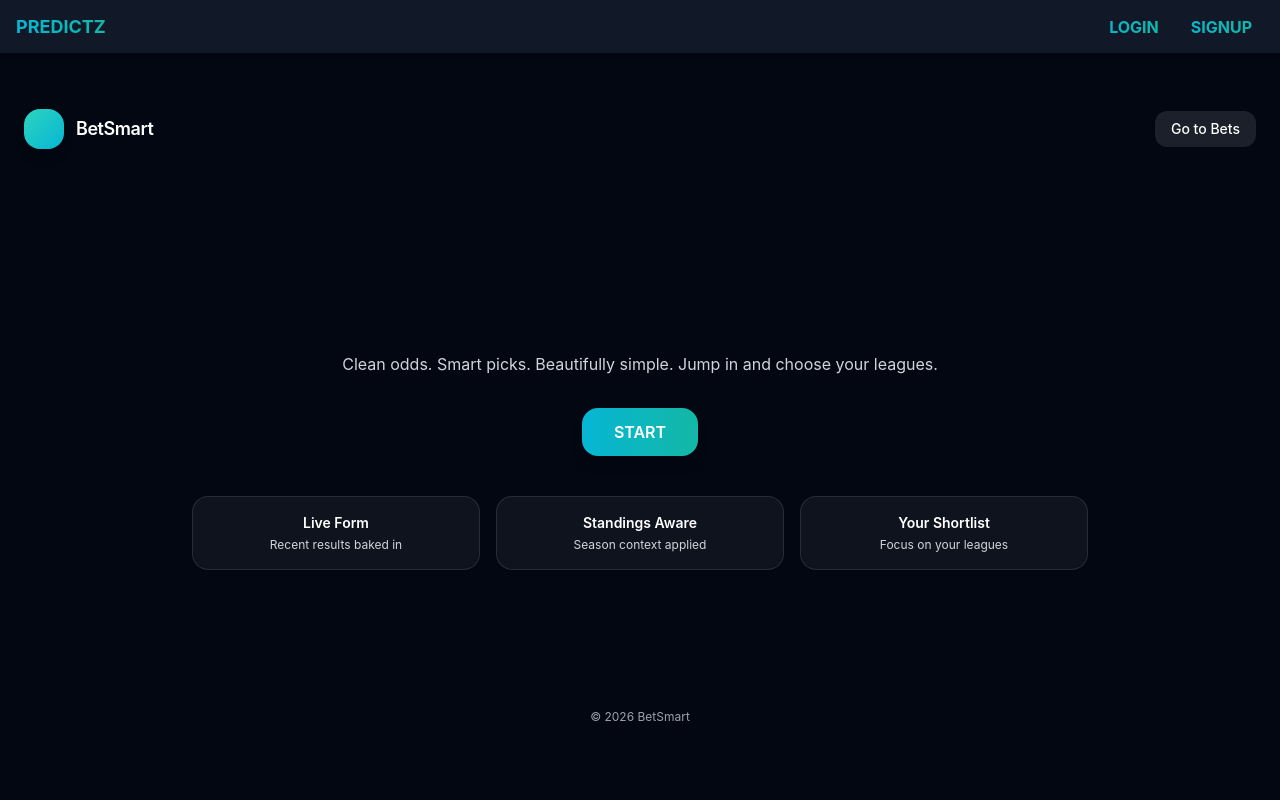
Test case: renders the app shell and opens the prediction desk without real network requests
This screenshot has width=1280, height=800.
Click the button "Go to Bets". click: x=1205, y=129
box: x1=1155 y1=111 x2=1256 y2=147
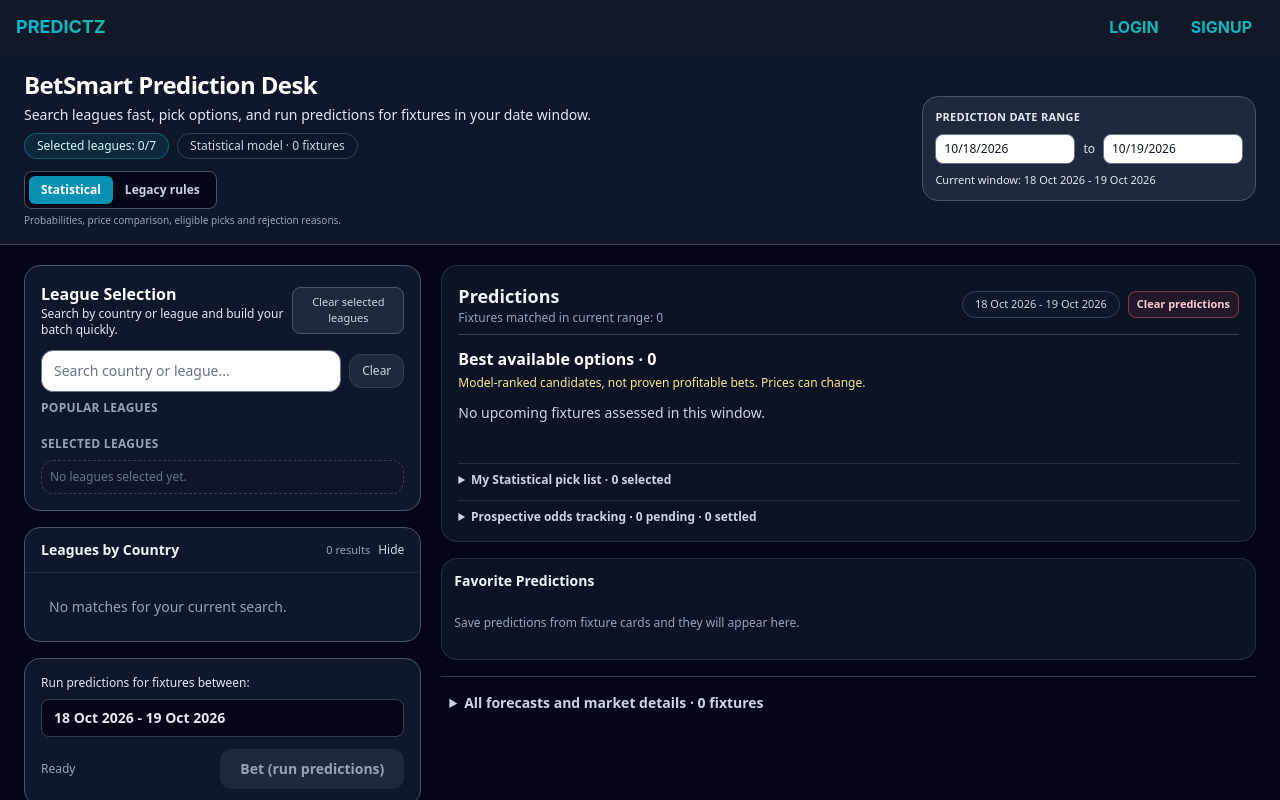
Expected: the heading "BetSmart Prediction Desk" is shown, x1=24 y1=68 x2=317 y2=101
